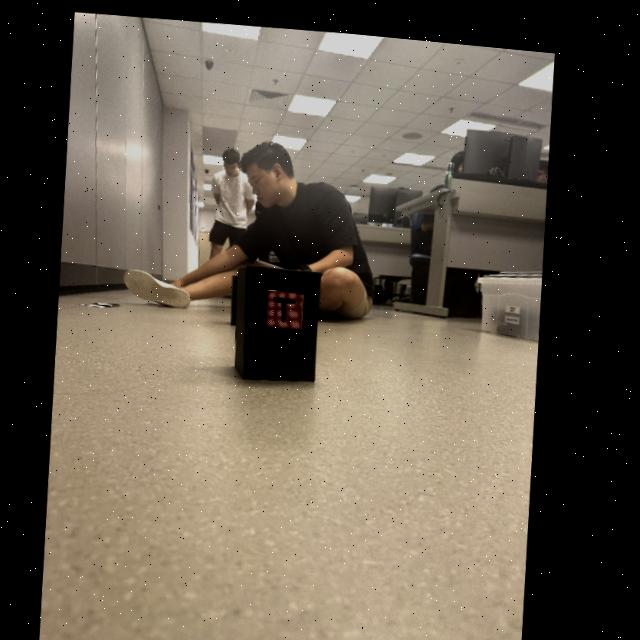T: (278, 291, 300, 315)
